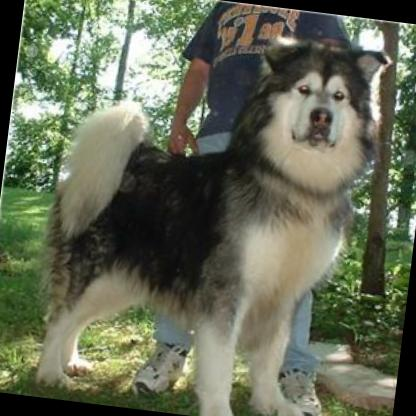malamute: (24, 8, 393, 416)
